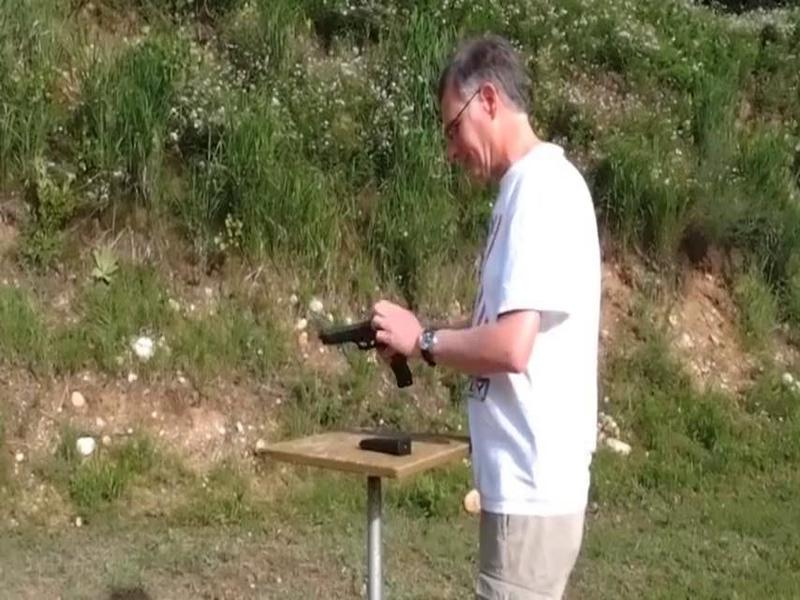Pistola: (299, 305, 421, 399)
